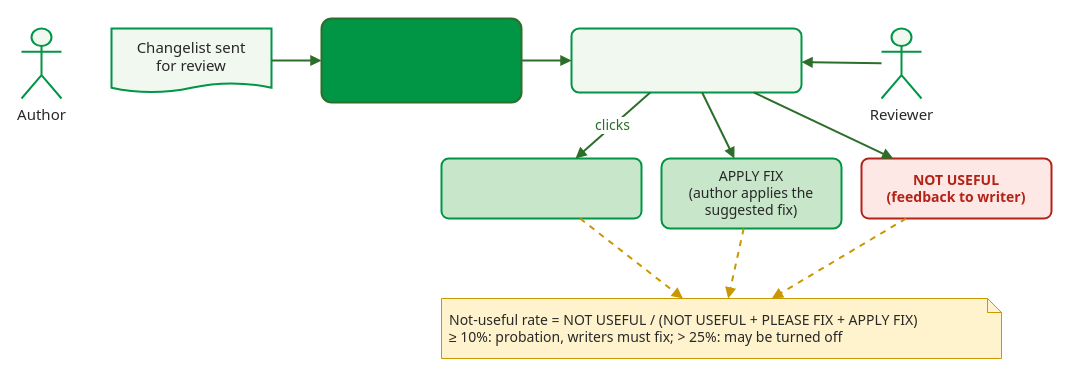
Some shapes in this 1070 by 376 pixel diagram are drawn without their labels. The shapes that lost their labels are listed below. From the top down, each one's box as (x1, y1, x2, y2) in pixels, then its label:
(320, 17, 522, 103): Analyzers run (FILES, DEPS, COMPILATION stages)
(570, 27, 802, 93): Findings shown as review comments on changed lines
(440, 157, 642, 219): PLEASE FIX (reviewer: author must act)
